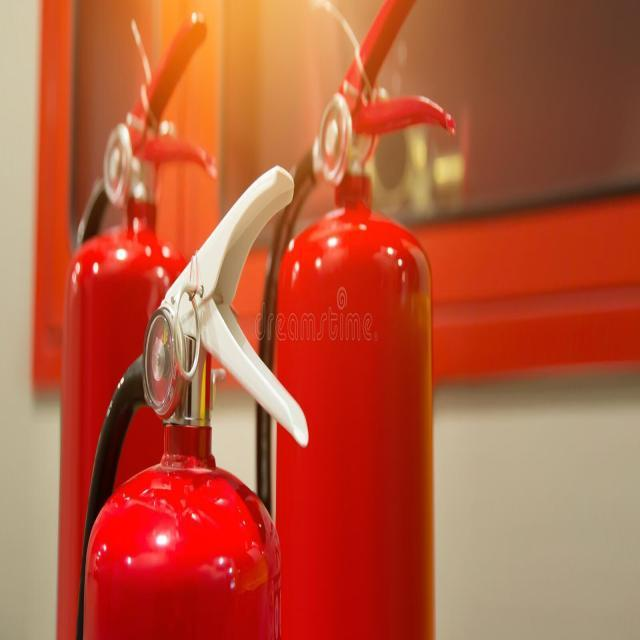fire_extinguisher: (252, 0, 460, 639), (74, 160, 312, 640), (48, 1, 222, 639)
